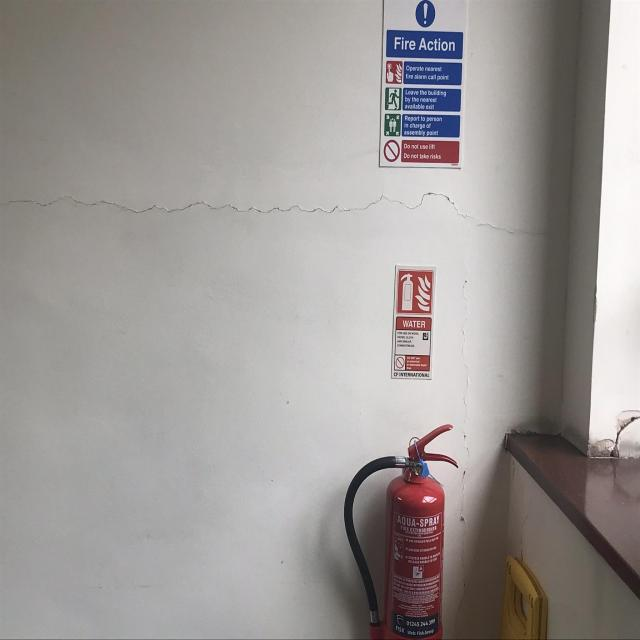fire_extinguisher: (339, 420, 461, 640)
